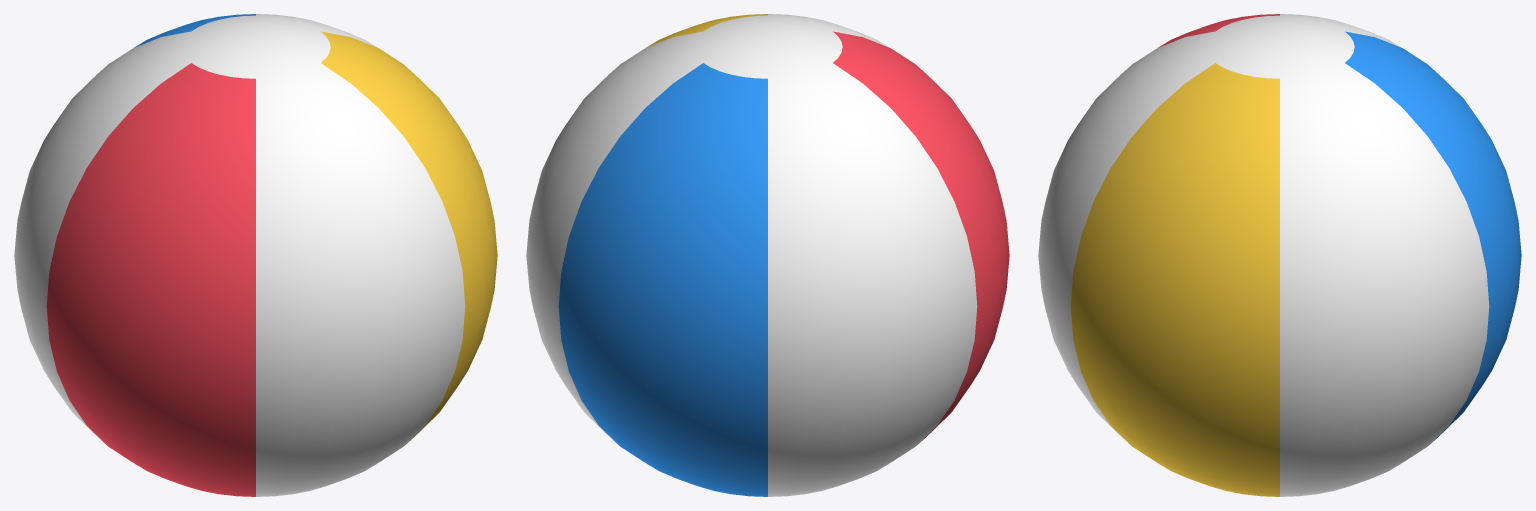
File: ball.glb
3 views of the same model, side by side, from view 1: azimuth 30°, elevation 25°; view 2: azimuth 150°, elevation 25°; view 3: azimuth 270°, elevation 25° (orthographic).
Parts seen in each view (by area): view 1: Ball; view 2: Ball; view 3: Ball.
Boxes of the visible parts, box(x1,y1,x2,y2) form: Ball: box(14, 14, 497, 496); Ball: box(526, 14, 1009, 496); Ball: box(1038, 14, 1521, 496).
Bounding box in the file's own units: 0.48 × 0.48 × 0.48.
